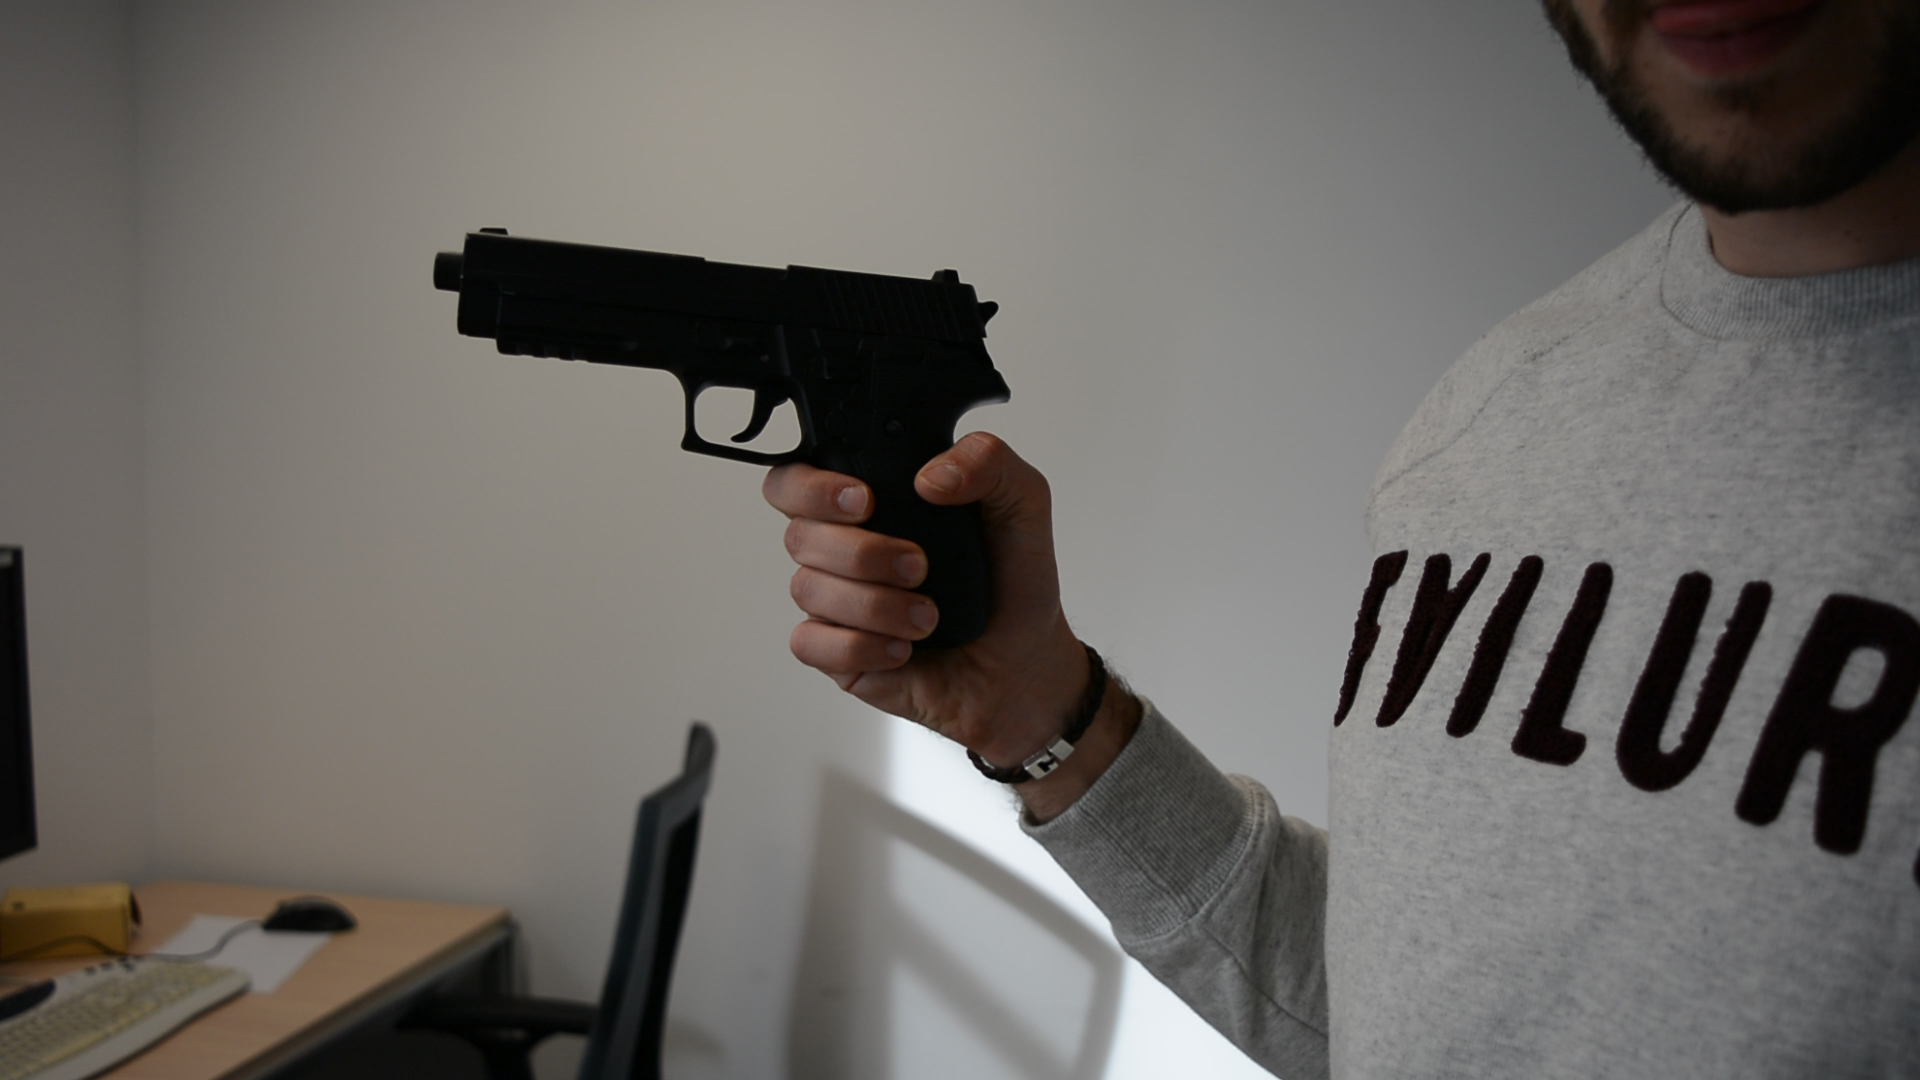pistol: (429, 222, 1018, 646)
